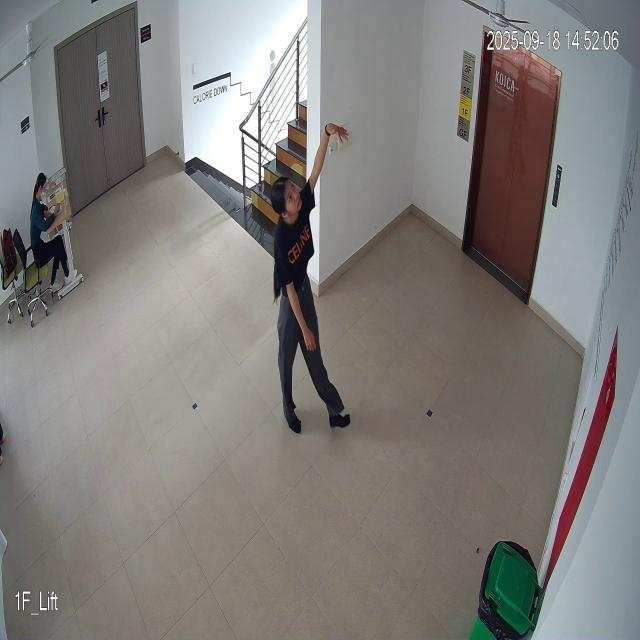face: (270, 176, 306, 227)
